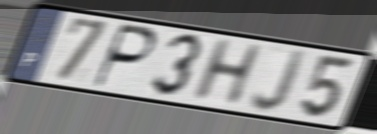3: (148, 33, 208, 100)
5: (299, 52, 359, 122)
7: (55, 14, 110, 84)
H: (187, 36, 266, 106)
J: (249, 47, 310, 116)
P: (89, 22, 159, 91)
